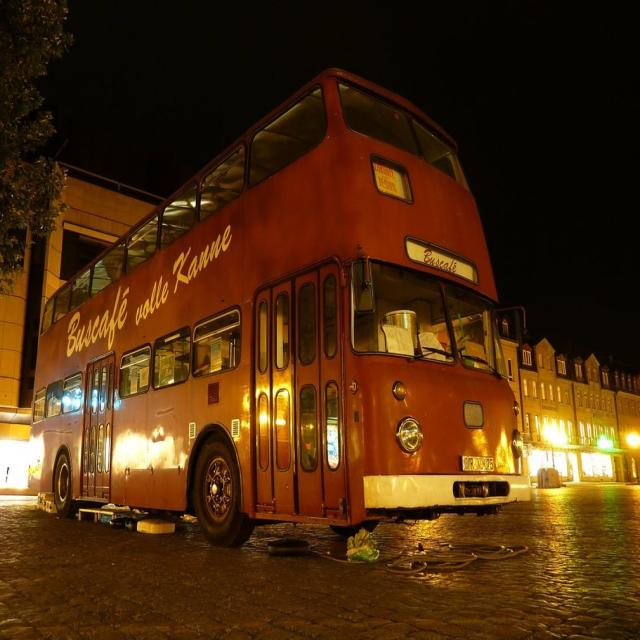Bus: (28, 52, 535, 562)
